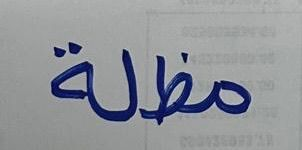ghain: (139, 48, 199, 128)
lam: (96, 47, 138, 129)
meem: (201, 73, 256, 122)
teh_marbota: (43, 38, 94, 107)
